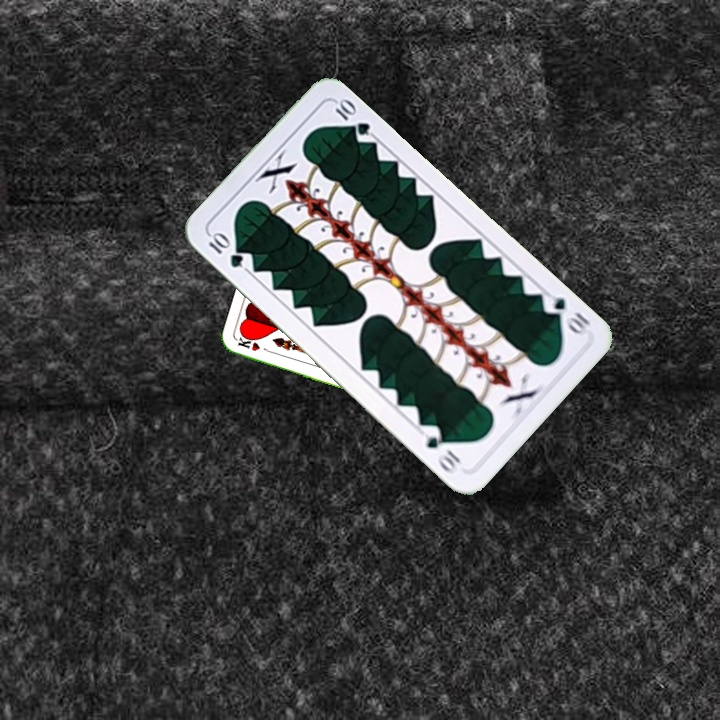G10: (538, 289, 593, 337), (204, 228, 246, 271)
HK: (234, 333, 274, 355)
